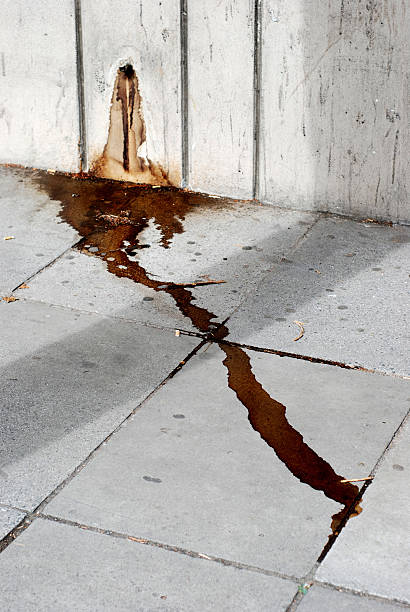blood: (36, 59, 374, 578)
